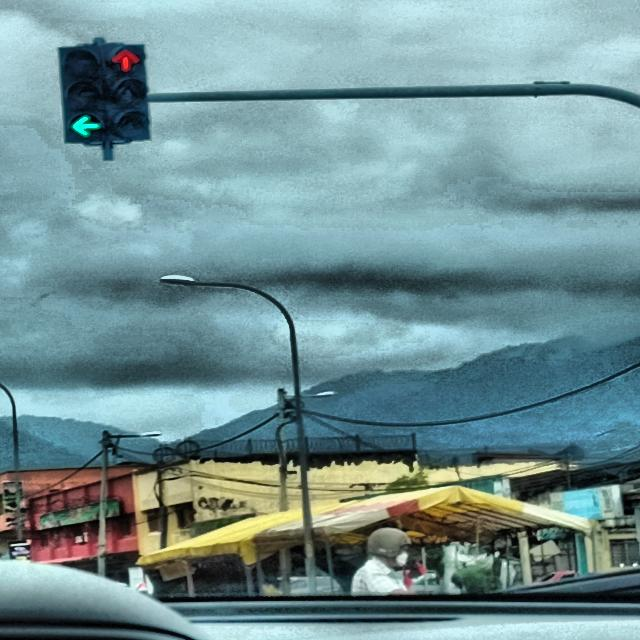green: (62, 43, 107, 143)
red: (107, 45, 150, 142)
